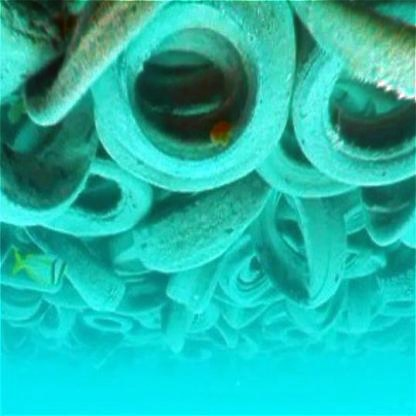tire: (106, 1, 288, 171), (288, 9, 414, 189), (137, 159, 278, 288), (1, 133, 151, 232), (252, 171, 351, 318), (70, 299, 139, 340)
